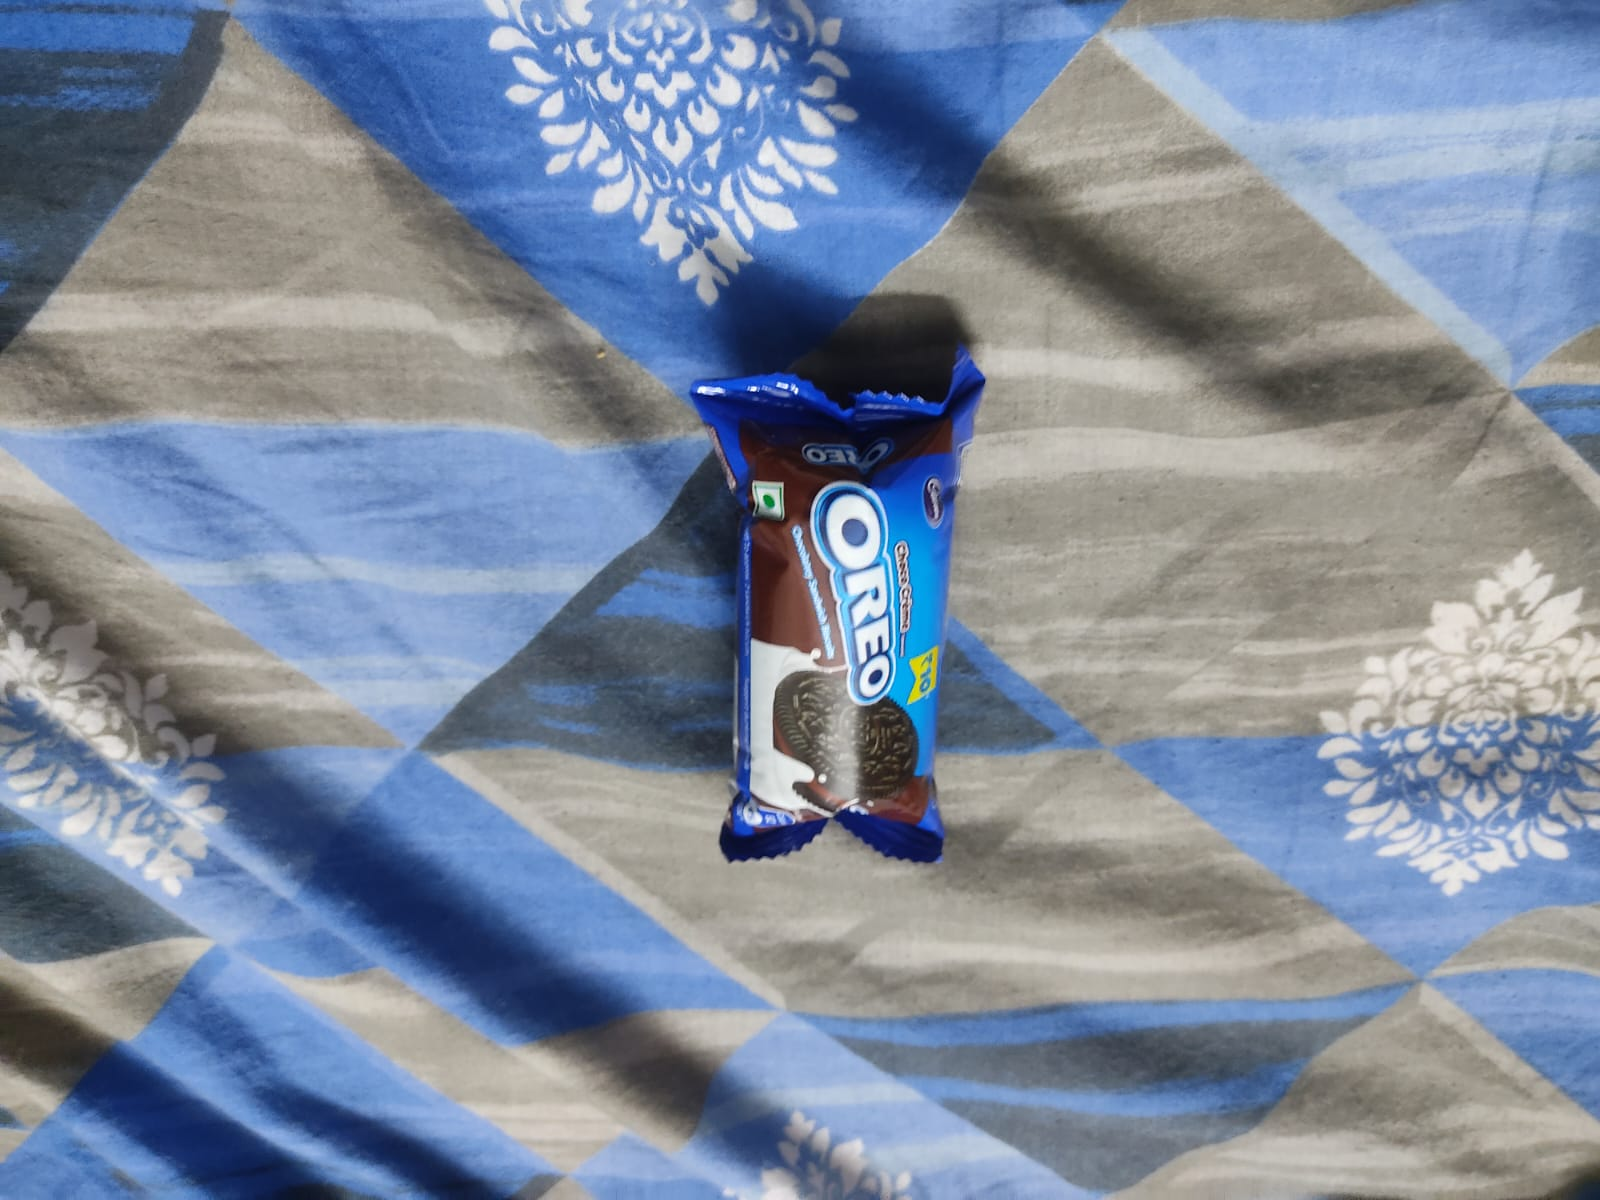010_Oreos: (728, 418, 939, 834)
